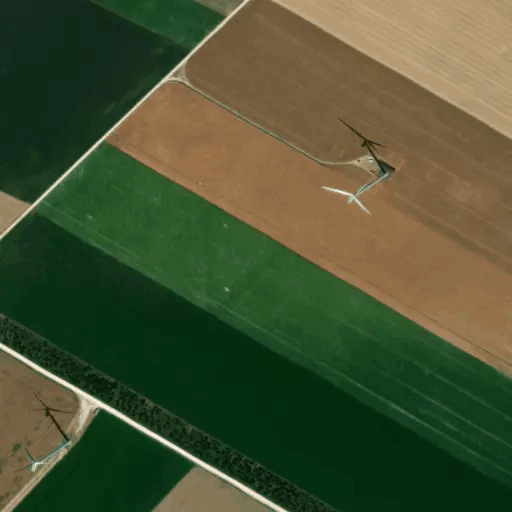wt: (319, 115, 395, 218), (20, 389, 81, 485)
